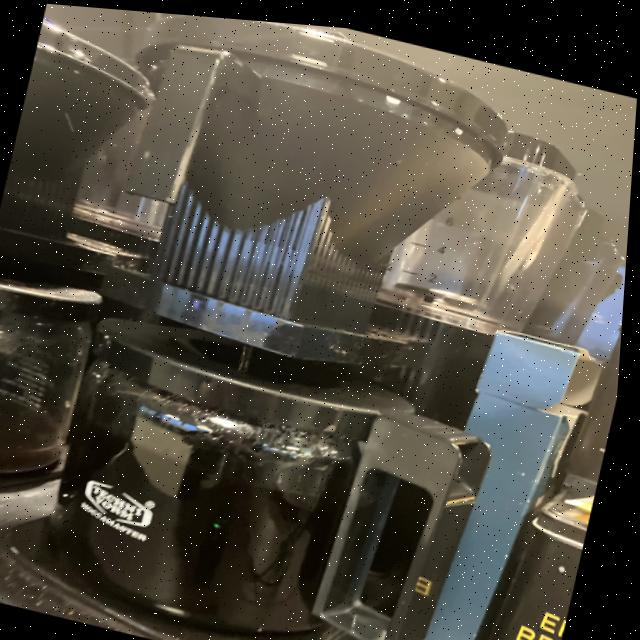coffee: (0, 263, 492, 640), (0, 249, 115, 522)
